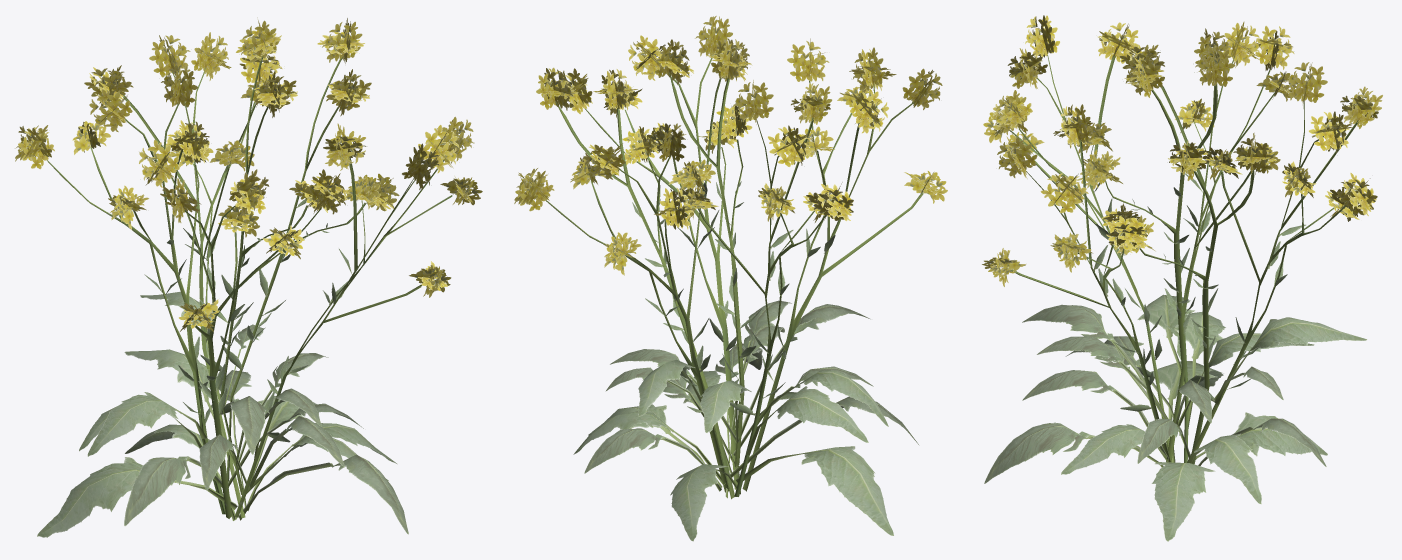
Rendered from flower_yellow.glb.
3 views of the same model, side by side, from view 1: azimuth 30°, elevation 25°; view 2: azimuth 150°, elevation 25°; view 3: azimuth 270°, elevation 25° (orthographic). The views are drawn at different scales.
Visible parts, largest first — view 1: bq_Flower_Bunias-orientalis_A_summer; view 2: bq_Flower_Bunias-orientalis_A_summer; view 3: bq_Flower_Bunias-orientalis_A_summer.
Boxes of the visible parts, x1,y1,x2,y2 form: bq_Flower_Bunias-orientalis_A_summer: [15, 17, 482, 537]; bq_Flower_Bunias-orientalis_A_summer: [514, 15, 947, 541]; bq_Flower_Bunias-orientalis_A_summer: [982, 15, 1382, 541].
Size of the model in its own units: 0.756 by 0.8743 by 0.6951.
2 materials, 2 textured.
